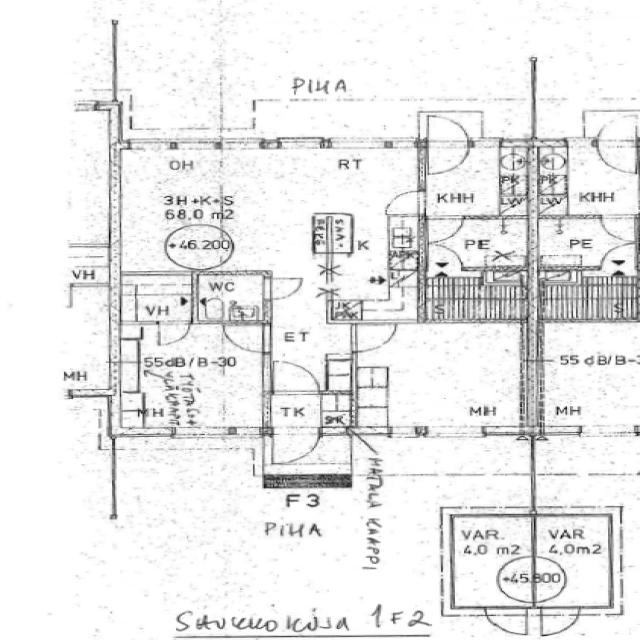door: (532, 514, 613, 604), (557, 214, 640, 262), (423, 114, 472, 176), (594, 116, 639, 174), (271, 428, 321, 465), (271, 359, 320, 394), (221, 322, 269, 355), (349, 322, 397, 354), (539, 606, 581, 638), (483, 607, 529, 636), (382, 188, 425, 216), (598, 214, 638, 243), (423, 216, 465, 243), (156, 320, 193, 348), (266, 276, 304, 300)
window: (424, 426, 485, 441), (327, 137, 384, 150), (127, 140, 178, 151), (470, 136, 501, 148)
zone: (354, 320, 528, 434), (122, 322, 268, 437), (114, 142, 225, 272), (415, 1, 525, 106), (537, 321, 640, 433), (536, 5, 640, 114), (296, 13, 418, 101), (419, 143, 528, 218), (450, 513, 535, 606), (529, 514, 611, 608), (535, 146, 640, 217), (420, 267, 528, 322), (424, 216, 530, 271), (62, 290, 114, 395), (540, 267, 638, 322), (538, 217, 637, 269), (194, 272, 270, 324), (117, 274, 196, 324), (266, 393, 350, 430), (497, 557, 553, 604), (64, 244, 110, 286), (272, 427, 321, 465), (314, 211, 353, 256)
